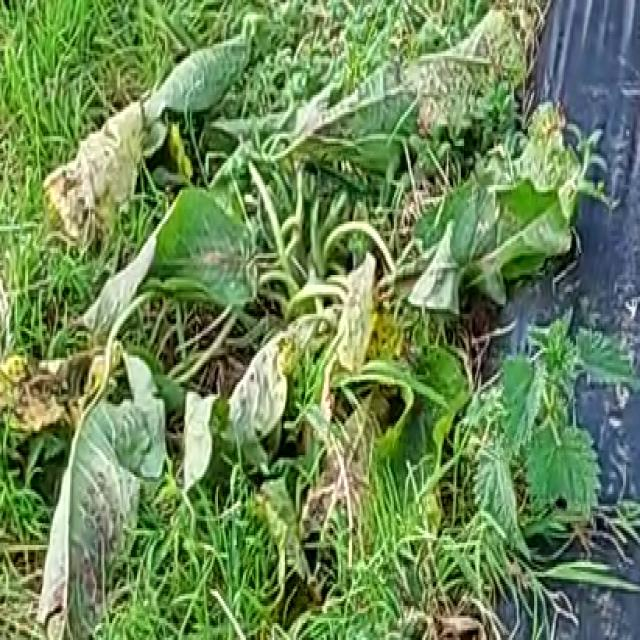organic waste: (28, 24, 584, 640)
